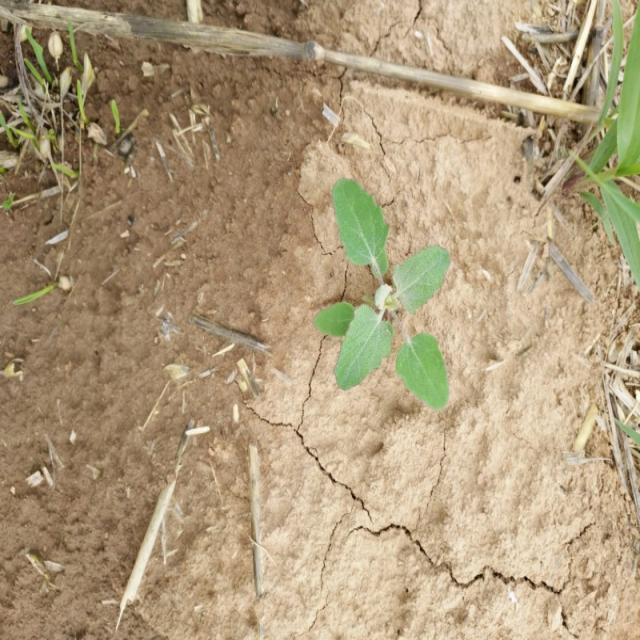ca: (315, 183, 452, 411)
